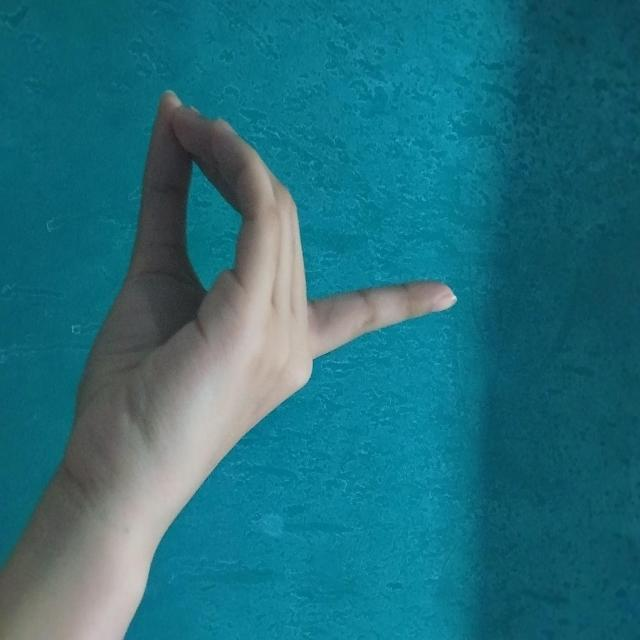D: (91, 175, 459, 569)
